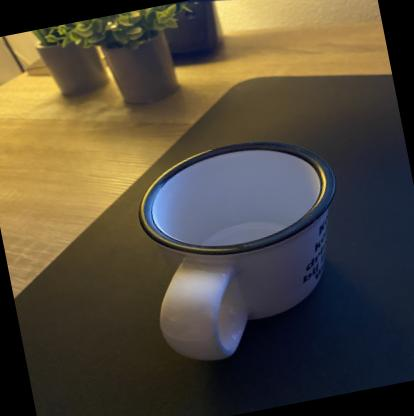Cup: (126, 123, 370, 373)
